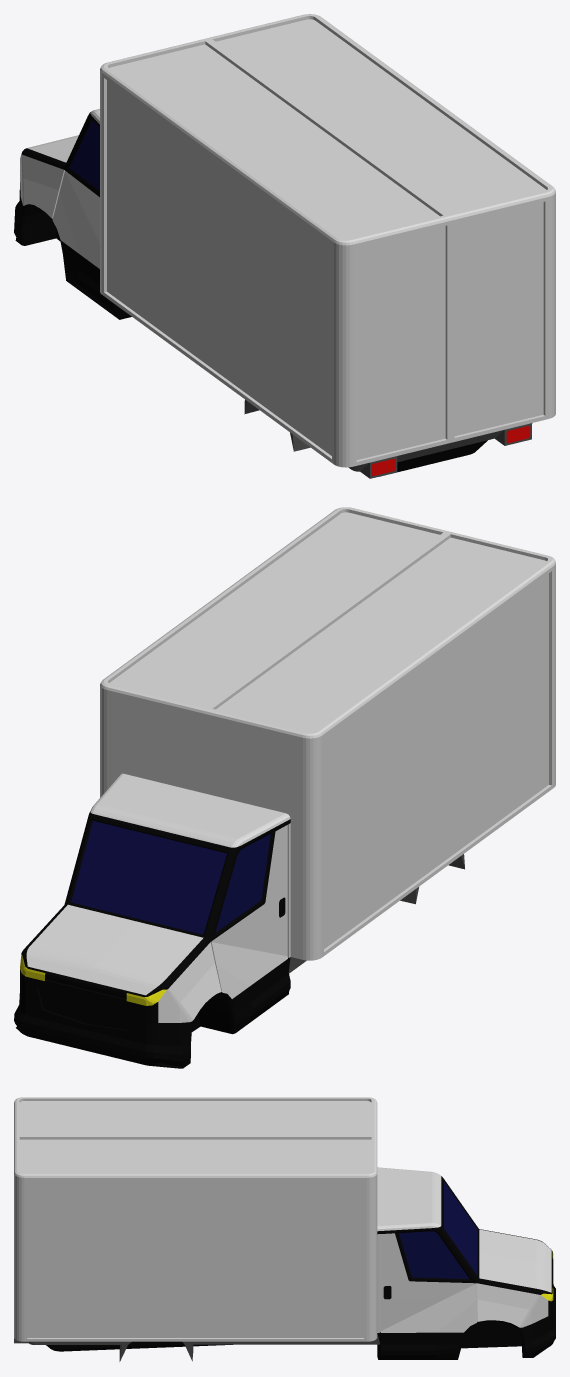
The model's file is van.fbx.
The picture shows the model from 3 angles, top to bottom: view 1: azimuth 30°, elevation 25°; view 2: azimuth 150°, elevation 25°; view 3: azimuth 270°, elevation 25°; orthographic projection. The views are drawn at different scales.
Parts seen in each view (by area): view 1: Cube; view 2: Cube; view 3: Cube.
Part boxes in pixels (x1=…): Cube: x1=14, y1=14, x2=555, y2=478; Cube: x1=14, y1=507, x2=555, y2=1068; Cube: x1=14, y1=1097, x2=555, y2=1361.
Bounding box in the file's own units: 143 × 167 × 412.
